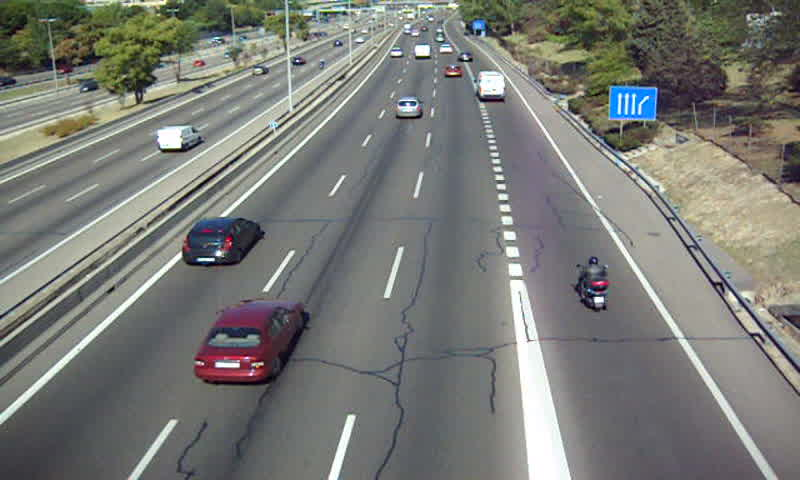car: (191, 301, 305, 382), (182, 218, 262, 265), (395, 96, 421, 120), (441, 64, 462, 80), (458, 50, 474, 63), (438, 43, 453, 55), (390, 47, 403, 59)
motorcycle: (575, 255, 610, 311)
van: (476, 70, 506, 103), (412, 44, 429, 59)
